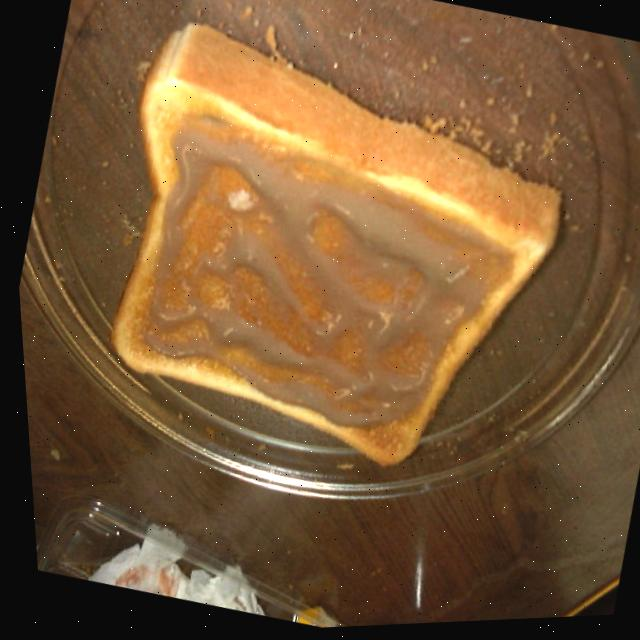面包点心: (58, 0, 576, 510)
